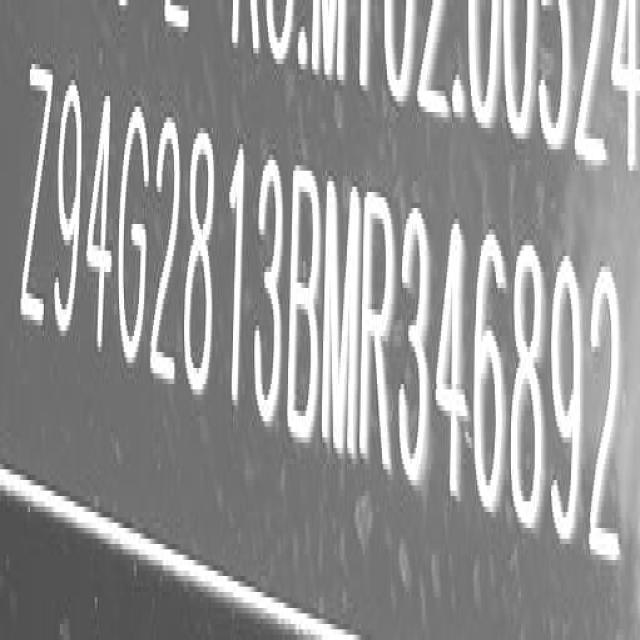1: (227, 151, 246, 418)
2: (591, 274, 624, 566), (154, 121, 182, 387)
3: (400, 213, 433, 496), (256, 158, 286, 433)
4: (436, 222, 468, 511), (88, 88, 118, 358)
6: (475, 233, 507, 523)
8: (513, 247, 547, 535), (187, 124, 217, 400)
9: (548, 256, 581, 556), (55, 77, 84, 352)
B: (292, 166, 324, 453)
G: (119, 105, 153, 378)
M: (323, 178, 361, 468)
R: (365, 189, 398, 482)
Z: (20, 60, 52, 336)
